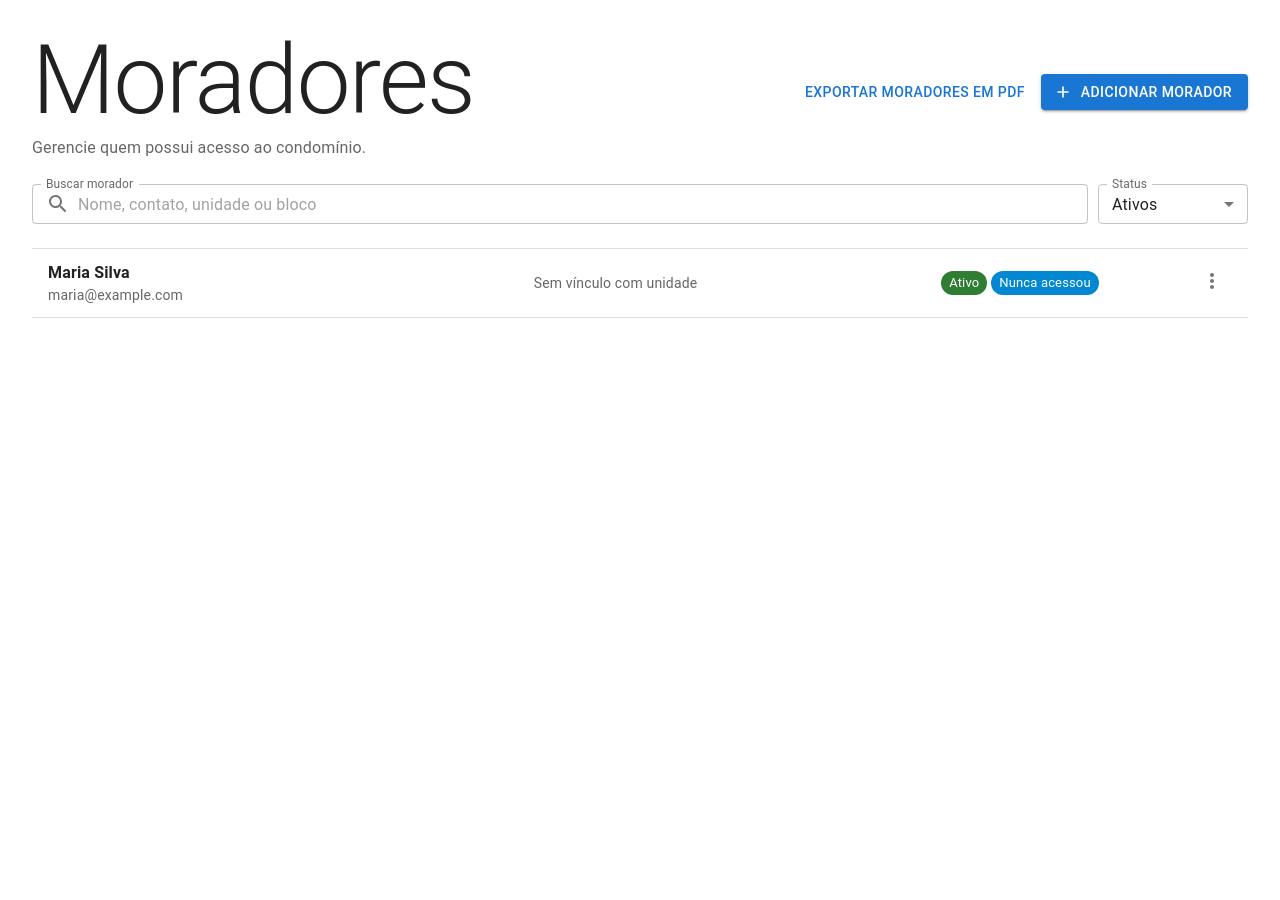
Test case: ManagementPeoplePage password reset › copies the password and WhatsApp message and reports clipboard failure
Click the button named "Ações de Maria Silva" at (1212, 281), box top-left (1192, 261), bottom-right (1232, 301)
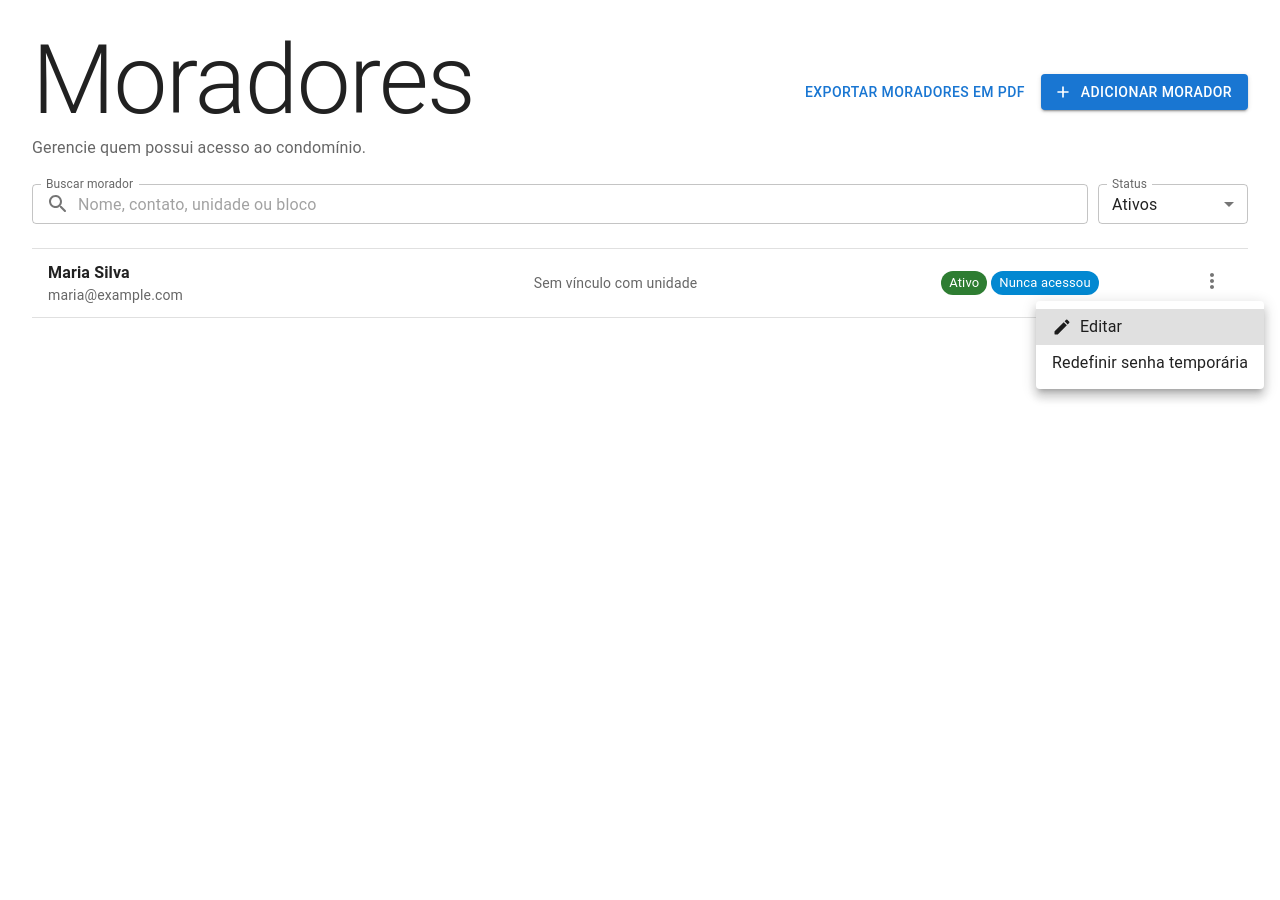
Click the menu item "Redefinir senha temporária" at (1150, 362), box top-left (1052, 353), bottom-right (1248, 372)
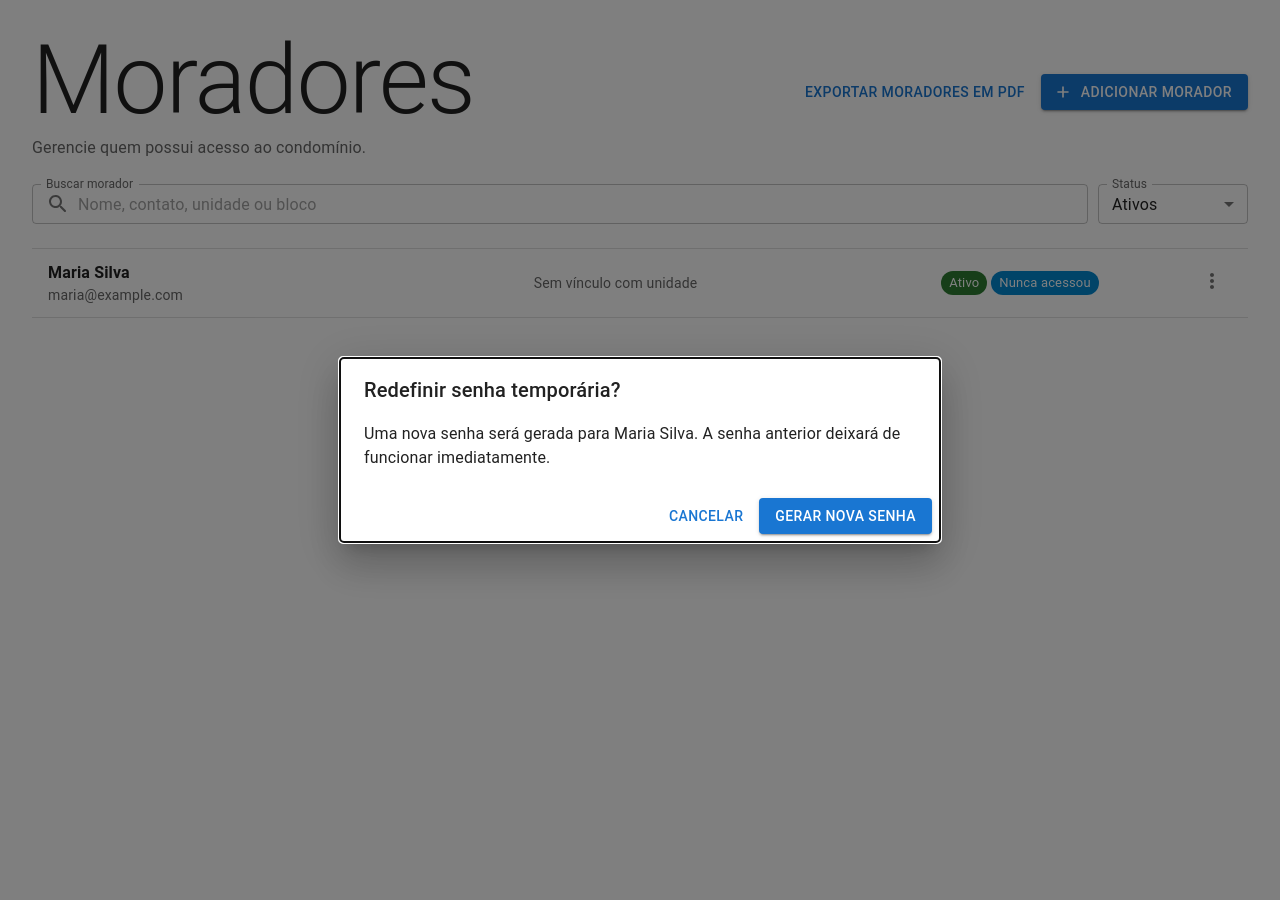
Click the button "Gerar nova senha" at (846, 516), box top-left (759, 498), bottom-right (932, 534)
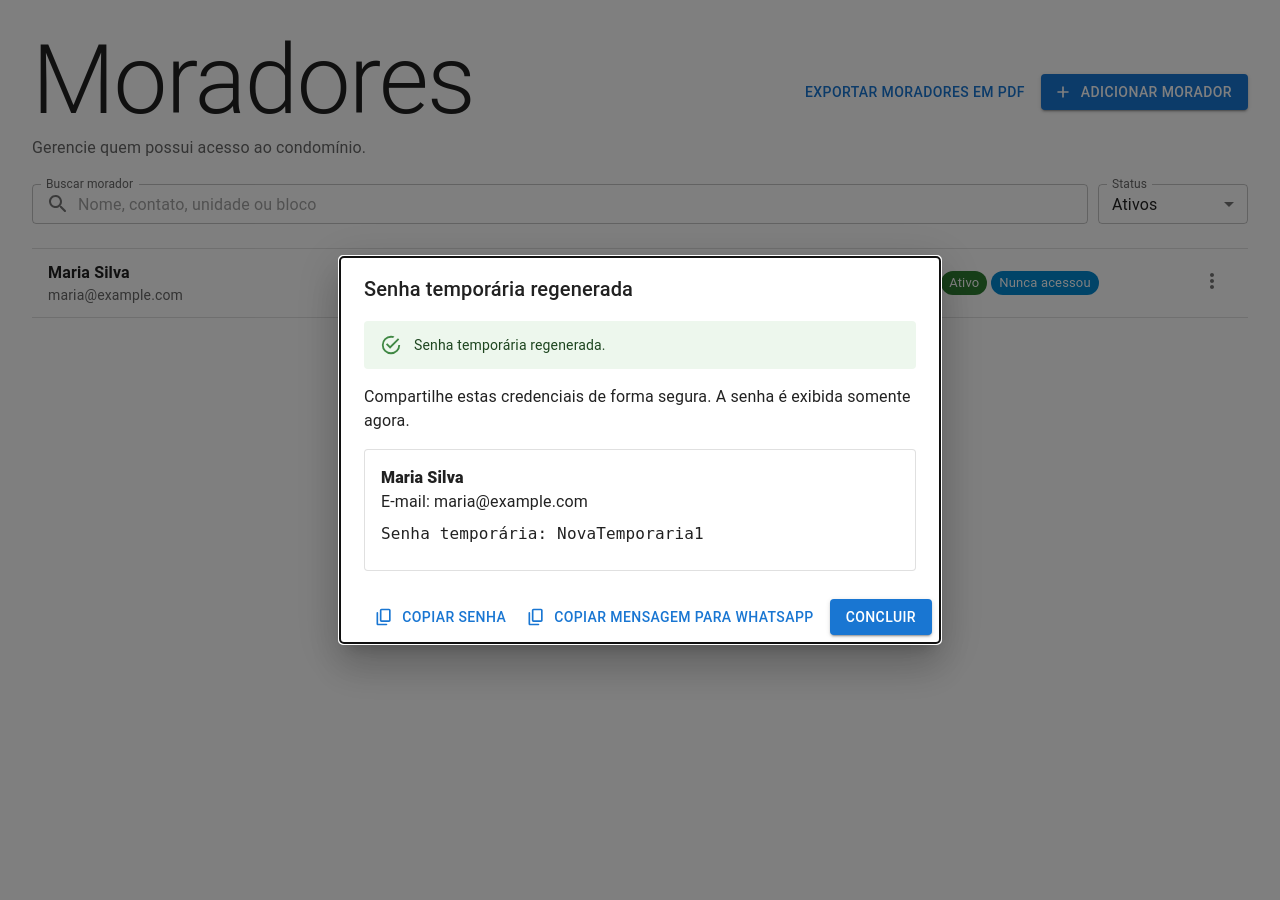
Click the button "Copiar senha" at (442, 617), box top-left (370, 599), bottom-right (514, 635)
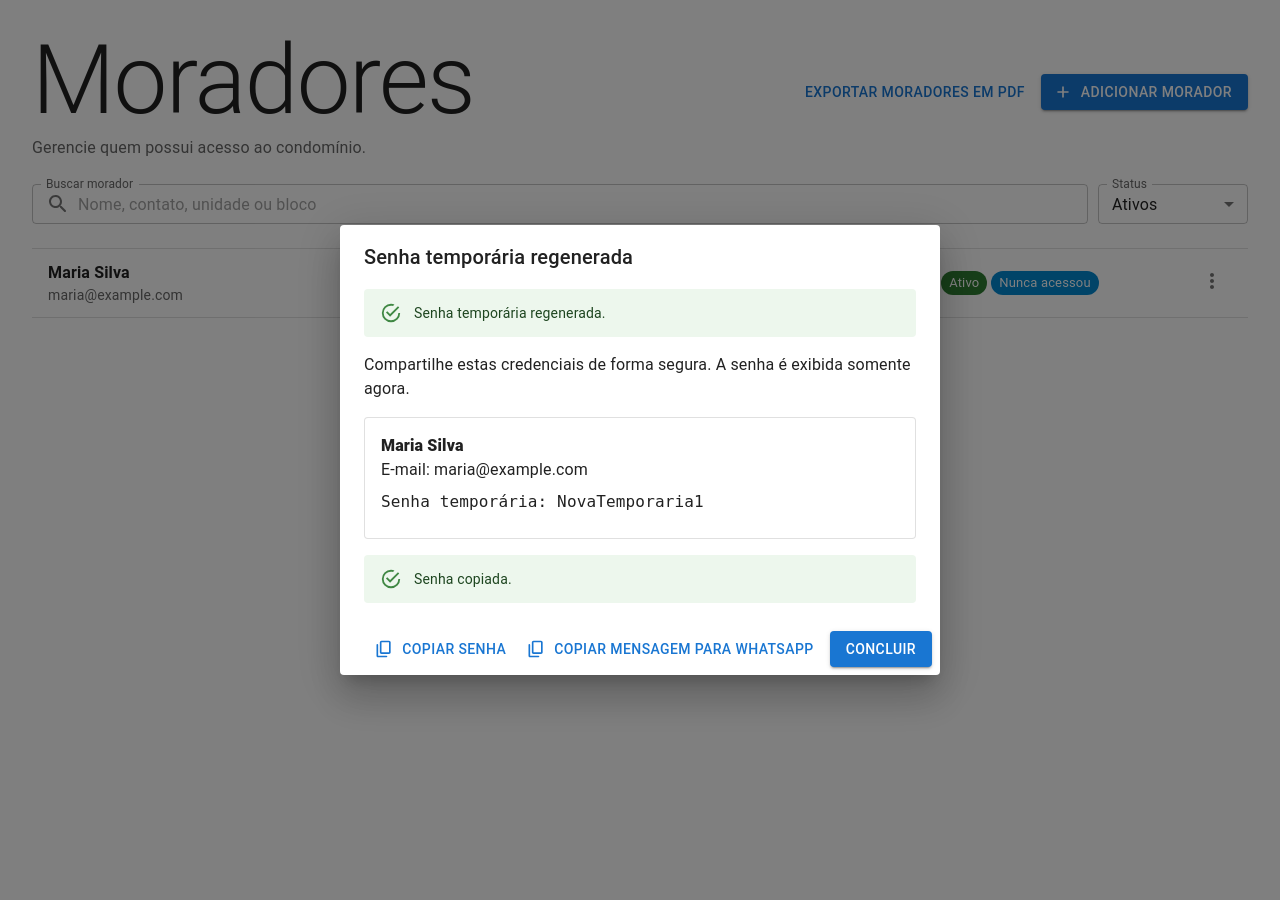
Expected: the text "Senha copiada." is shown, top-left (414, 571), bottom-right (512, 587)
Click the button "Copiar mensagem para WhatsApp" at (672, 649), box top-left (522, 631), bottom-right (822, 667)
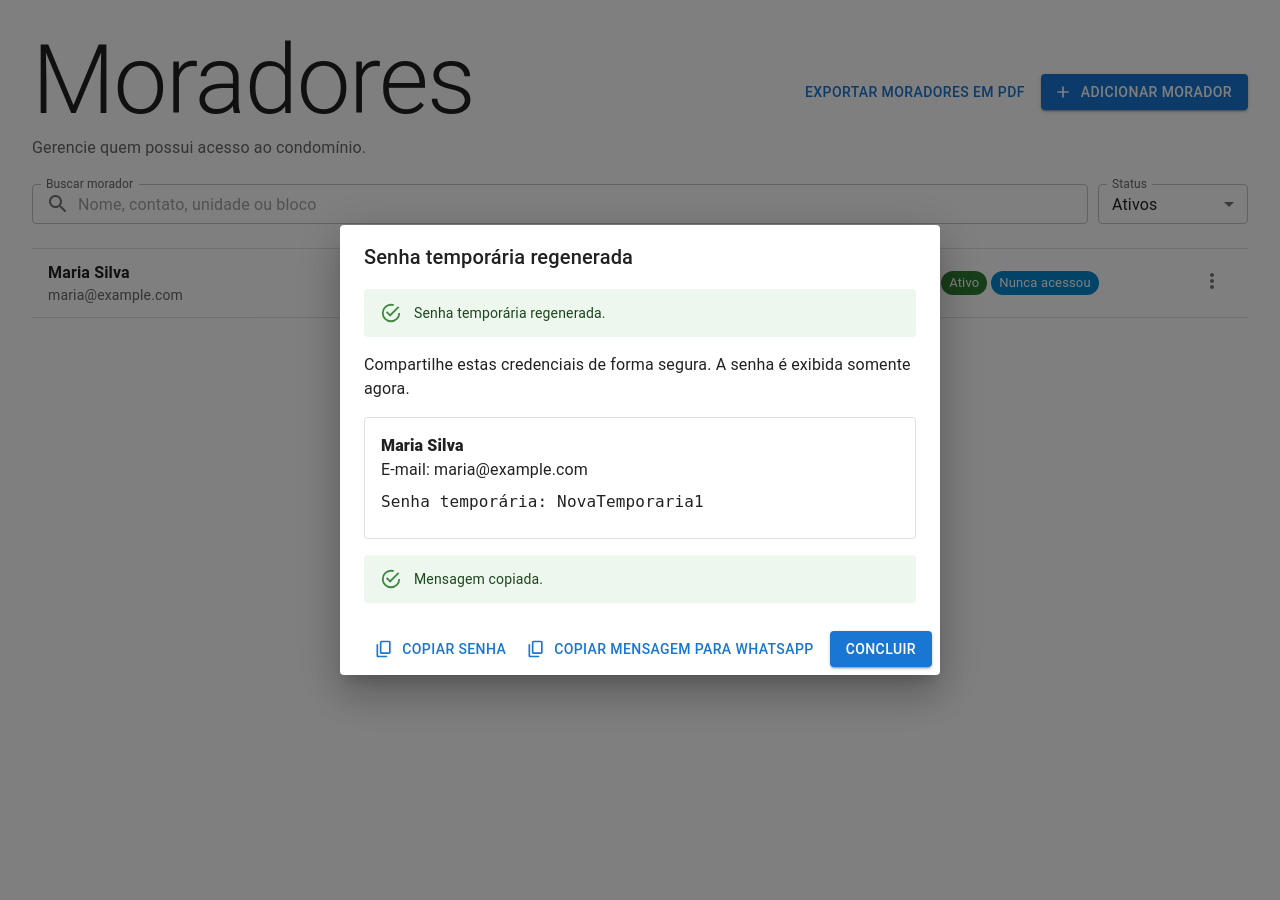
Expected: the text "Mensagem copiada." is shown, top-left (414, 571), bottom-right (543, 587)
Click the button "Copiar senha" at (442, 649), box top-left (370, 631), bottom-right (514, 667)
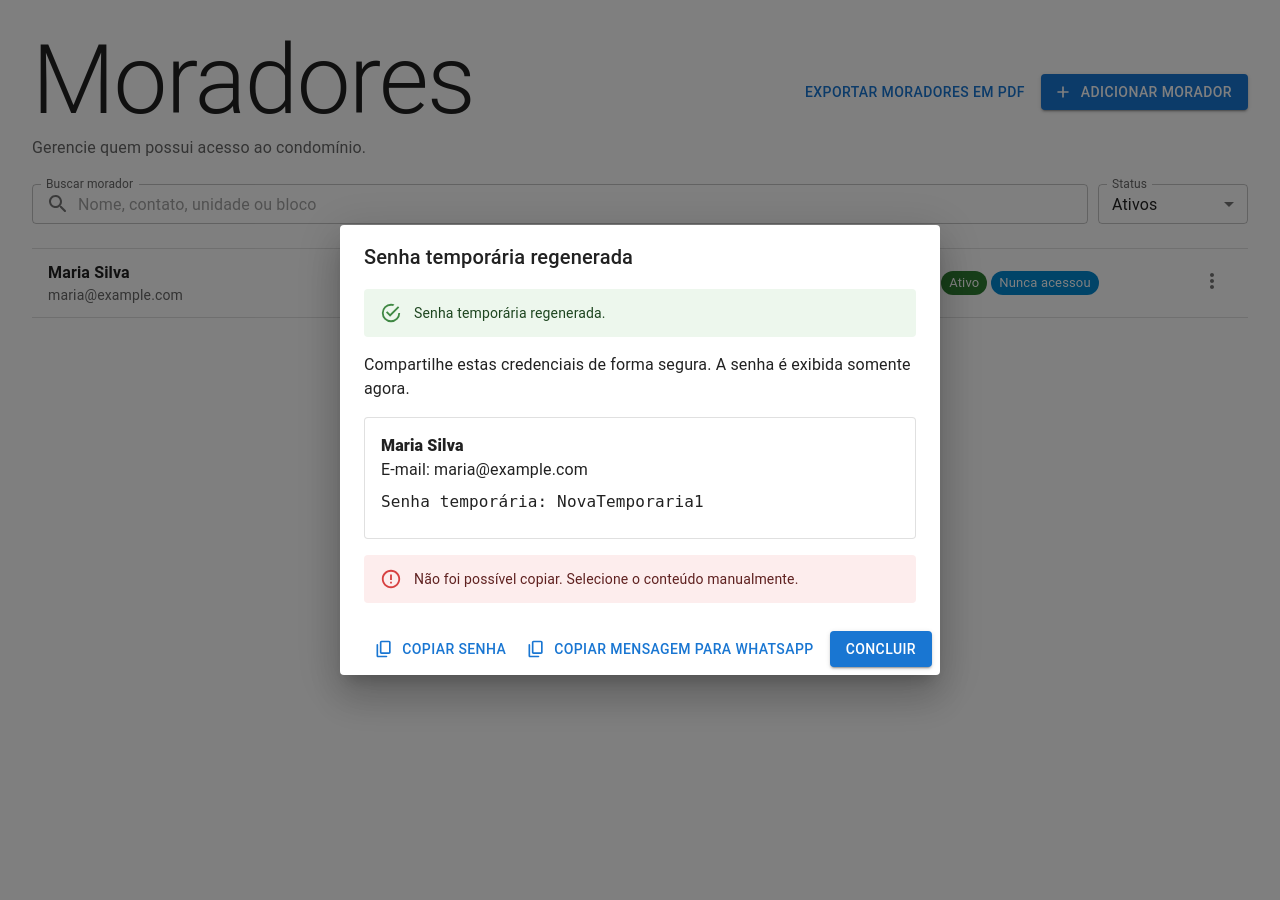
Expected: the text "Não foi possível copiar. Selecione o conteúdo manualmente." is shown, top-left (414, 571), bottom-right (798, 587)
